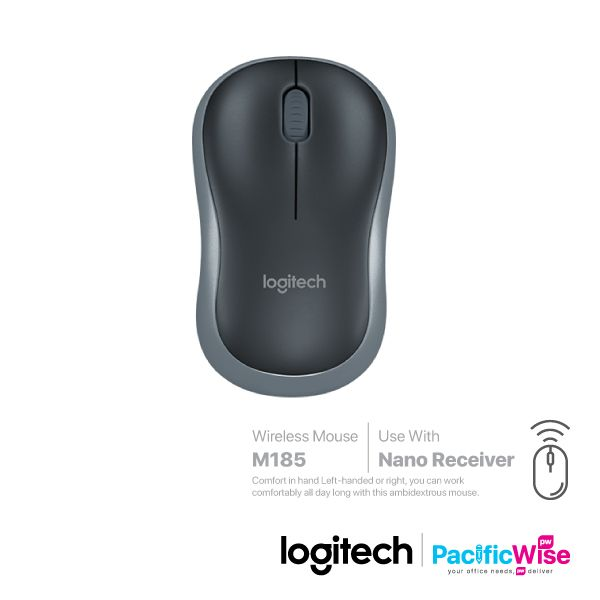logitech-mouse-m185: (177, 56, 402, 398)
